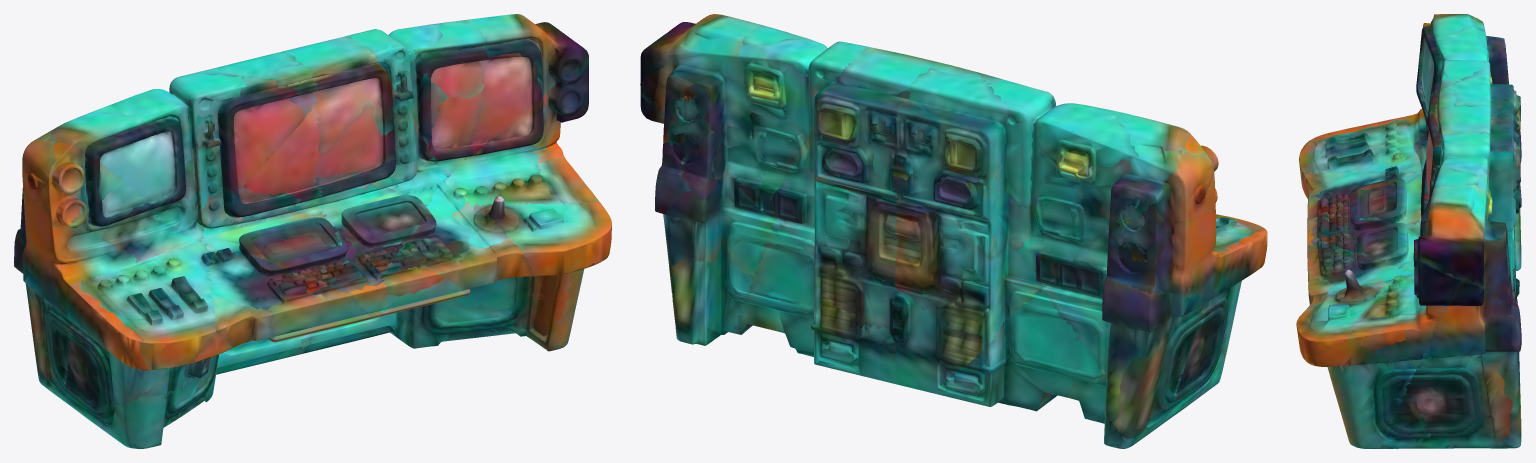
Rendered from control-console.glb.
3 views of the same model, side by side, from view 1: azimuth 30°, elevation 25°; view 2: azimuth 150°, elevation 25°; view 3: azimuth 270°, elevation 25° (orthographic). The views are drawn at different scales.
Size of the model in its own units: 1.9 by 0.983 by 0.7935.
Materials: 1 (1 with a texture image).
